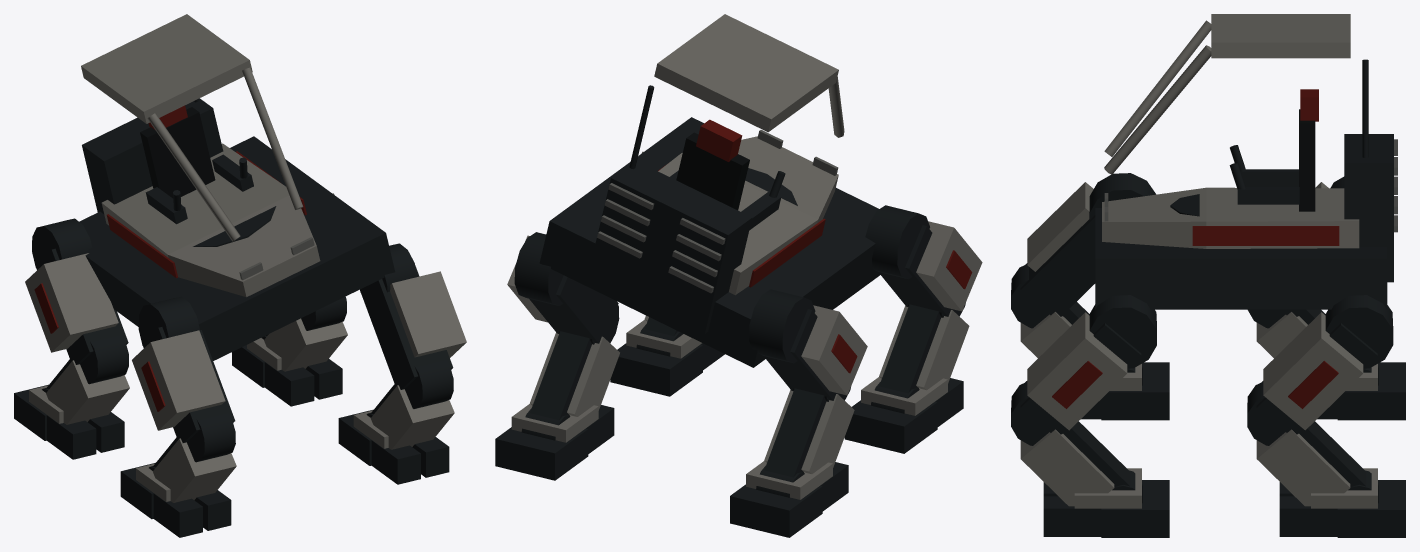
The picture shows the model from 3 angles, left to right: view 1: azimuth 30°, elevation 25°; view 2: azimuth 150°, elevation 25°; view 3: azimuth 270°, elevation 25°; orthographic projection. The views are drawn at different scales.
Visible parts, largest first — view 1: mech-torso-painted, mech-hip-1-painted, mech-hip-0-painted, mech-hip-3-painted, mech-seat-pilot-painted, mech-knee-1-painted, mech-knee-3-painted, mech-knee-0-painted, mech-ankle-3-painted, mech-ankle-1-painted, mech-ankle-0-painted, mech-ankle-2-painted (+1 smaller); view 2: mech-torso-painted, mech-hip-0-painted, mech-hip-1-painted, mech-ankle-2-painted, mech-ankle-0-painted, mech-ankle-1-painted, mech-hip-2-painted, mech-knee-2-painted, mech-knee-1-painted, mech-knee-0-painted, mech-seat-pilot-painted, mech-ankle-3-painted; view 3: mech-torso-painted, mech-hip-2-painted, mech-hip-3-painted, mech-hip-1-painted, mech-knee-2-painted, mech-knee-3-painted, mech-ankle-3-painted, mech-ankle-2-painted, mech-seat-pilot-painted, mech-ankle-1-painted, mech-ankle-0-painted, mech-knee-1-painted (+1 smaller).
Part boxes in pixels (bbox=[...]): mech-torso-painted: bbox=[79, 14, 395, 360]; mech-hip-1-painted: bbox=[132, 296, 235, 442]; mech-hip-0-painted: bbox=[25, 218, 128, 364]; mech-hip-3-painted: bbox=[360, 243, 466, 389]; mech-seat-pilot-painted: bbox=[140, 105, 253, 224]; mech-knee-1-painted: bbox=[152, 411, 236, 502]; mech-knee-3-painted: bbox=[370, 358, 454, 449]; mech-knee-0-painted: bbox=[46, 333, 129, 424]; mech-ankle-3-painted: bbox=[338, 409, 449, 484]; mech-ankle-1-painted: bbox=[120, 462, 231, 537]; mech-ankle-0-painted: bbox=[14, 384, 124, 459]; mech-ankle-2-painted: bbox=[232, 335, 342, 406]; mech-torso-painted: bbox=[539, 14, 882, 367]; mech-hip-0-painted: bbox=[749, 289, 867, 400]; mech-hip-1-painted: bbox=[865, 205, 982, 316]; mech-ankle-2-painted: bbox=[495, 404, 614, 480]; mech-ankle-0-painted: bbox=[730, 461, 848, 537]; mech-ankle-1-painted: bbox=[844, 377, 963, 453]; mech-hip-2-painted: bbox=[507, 232, 618, 343]; mech-knee-2-painted: bbox=[530, 305, 619, 420]; mech-knee-1-painted: bbox=[879, 303, 969, 393]; mech-knee-0-painted: bbox=[764, 387, 854, 477]; mech-seat-pilot-painted: bbox=[670, 119, 785, 230]; mech-ankle-3-painted: bbox=[610, 319, 724, 396]; mech-torso-painted: bbox=[1095, 14, 1397, 309]; mech-hip-2-painted: bbox=[1256, 295, 1393, 434]; mech-hip-3-painted: bbox=[1020, 295, 1156, 434]; mech-hip-1-painted: bbox=[1020, 173, 1156, 316]; mech-knee-2-painted: bbox=[1247, 382, 1366, 506]; mech-knee-3-painted: bbox=[1011, 382, 1130, 506]; mech-ankle-3-painted: bbox=[1043, 468, 1169, 537]; mech-ankle-2-painted: bbox=[1279, 468, 1405, 537]; mech-seat-pilot-painted: bbox=[1229, 89, 1318, 211]; mech-ankle-1-painted: bbox=[1081, 362, 1169, 420]; mech-ankle-0-painted: bbox=[1317, 362, 1405, 420]; mech-knee-1-painted: bbox=[1011, 264, 1089, 357].
Size of the model in its own units: 13.63 by 17.17 by 14.37.
